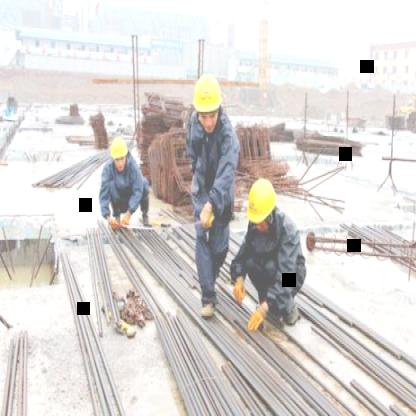helmet: (191, 70, 224, 134), (245, 173, 279, 235), (109, 134, 130, 174)
